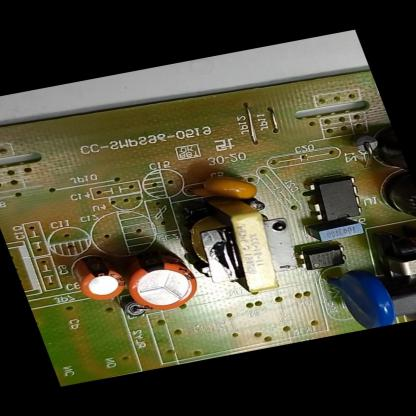Cap1: (116, 245, 204, 316)
Cap2: (68, 253, 129, 303)
Cap3: (388, 188, 416, 238)
Cap4: (368, 124, 414, 190)
MOSFET: (304, 174, 368, 224)
Mov: (326, 264, 400, 332)
Resistor: (403, 308, 416, 322)
Transformer: (165, 183, 309, 303), (380, 235, 416, 288)
